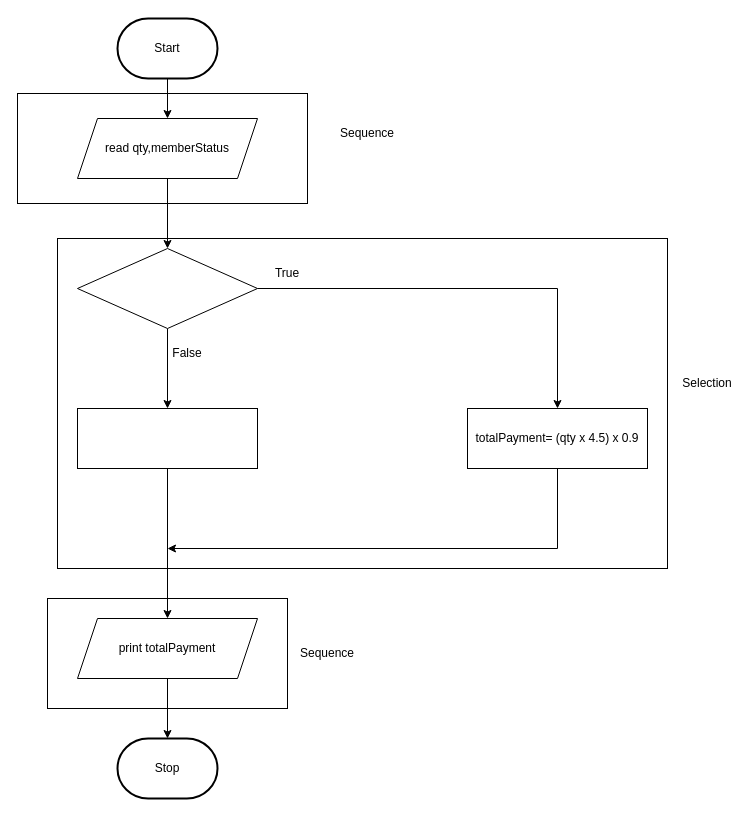
This 755x816 diagram has some shape labels left out. The centre of each missing label's shape, as x and y in pixels:
memberStatus=Y?: pixel 167 288
totalPayment= qty x 4.5: pixel 167 438
